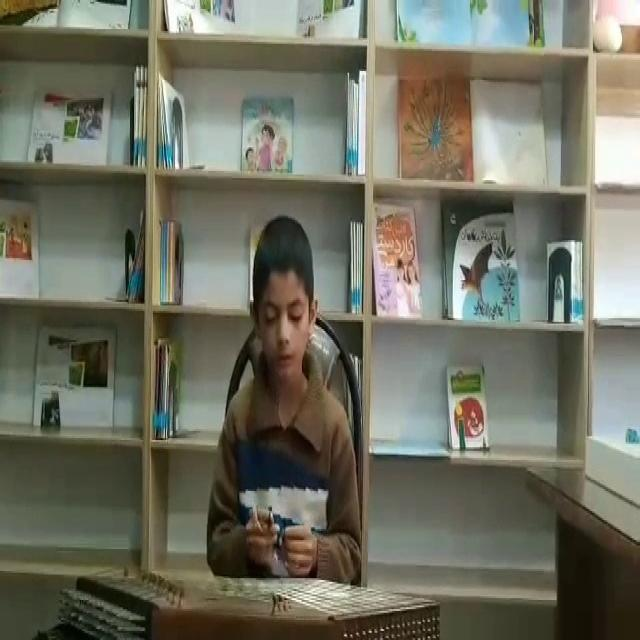Santur: (60, 567, 444, 640)
